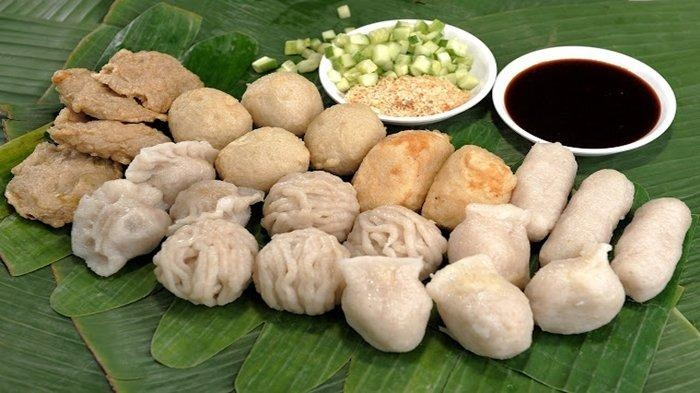pempek: (280, 106, 692, 348), (12, 48, 295, 309)
